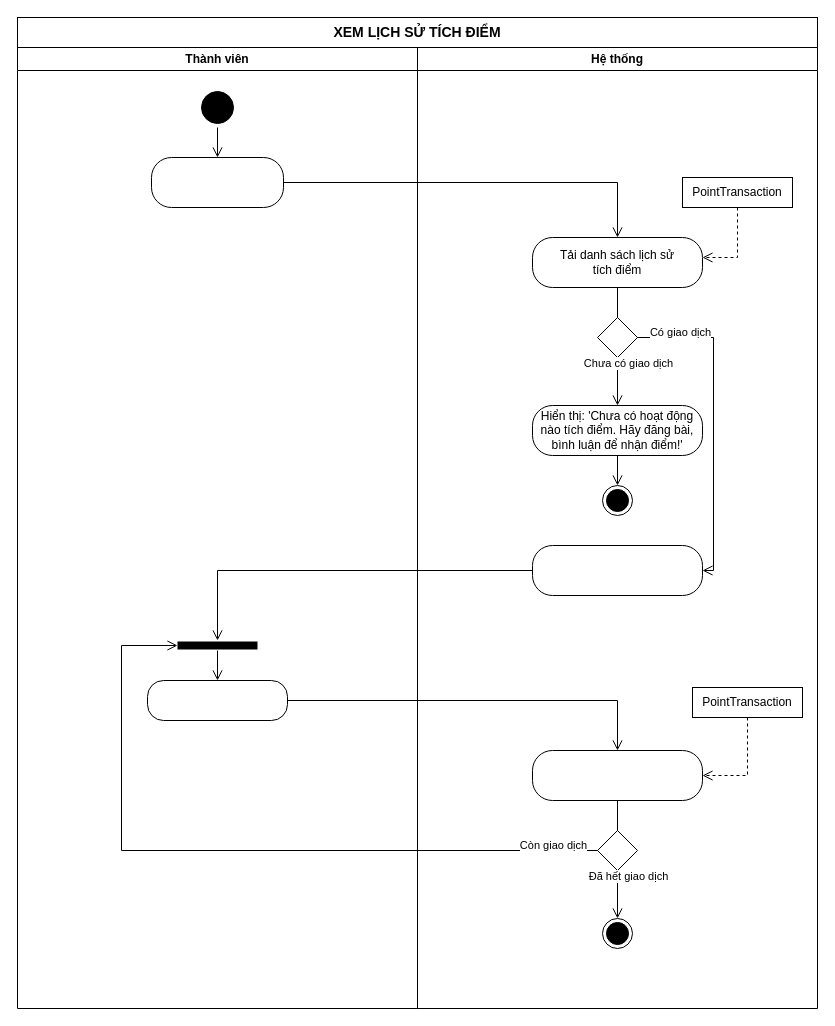
Image size: 835x1026. Some labels were removed from this diagram. The centre of each missing label's shape, as x and y in pixels:
"Hiển thị danh sách: tên hoạt động, thời gian, điểm" belongs at [617,570].
"Nhấn 'Tải thêm'" belongs at [217,700].
"Truy cập trang 'Điểm của tôi'" belongs at [217,182].
"Tải và nối thêm các giao dịch cũ hơn" belongs at [617,775].
